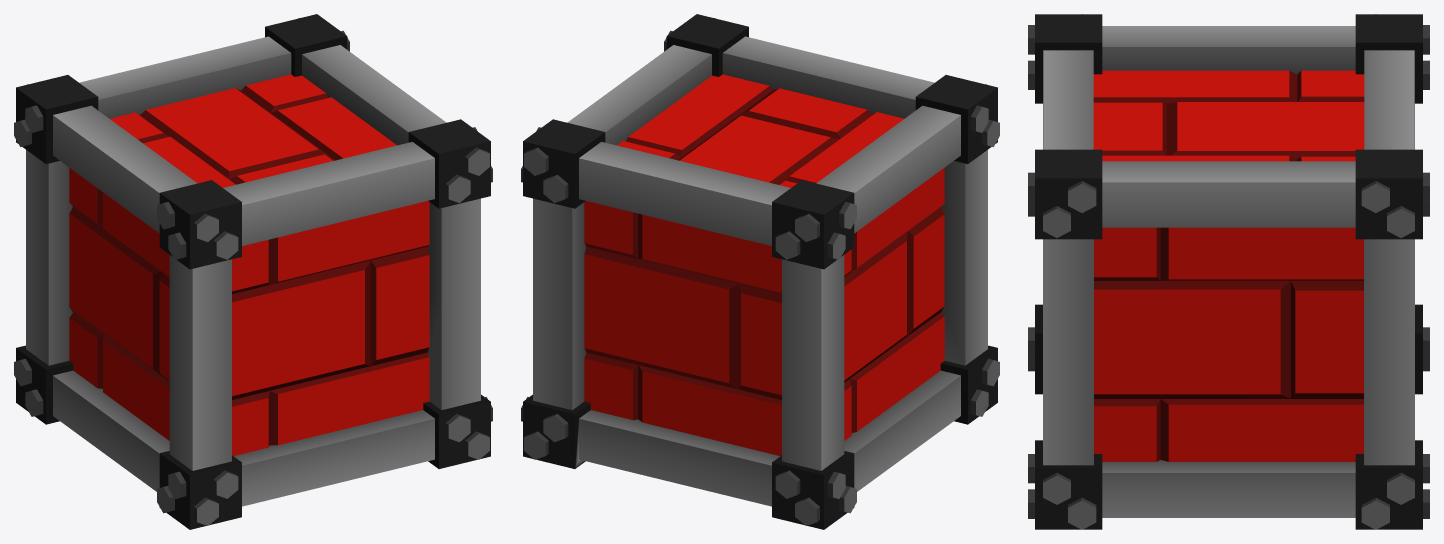
Rendered from SteelBrickBlock.fbx.
The picture shows the model from 3 angles, left to right: view 1: azimuth 30°, elevation 25°; view 2: azimuth 150°, elevation 25°; view 3: azimuth 270°, elevation 25°; orthographic projection. The views are drawn at different scales.
Visible parts, largest first — view 1: SteelBrickBlock, SteelBrickBlockInside; view 2: SteelBrickBlock, SteelBrickBlockInside; view 3: SteelBrickBlock, SteelBrickBlockInside.
Boxes of the visible parts, x1,y1,x2,y2 form: SteelBrickBlock: [14, 14, 492, 529]; SteelBrickBlockInside: [69, 74, 429, 455]; SteelBrickBlock: [521, 14, 999, 529]; SteelBrickBlockInside: [584, 74, 944, 455]; SteelBrickBlock: [1028, 14, 1429, 529]; SteelBrickBlockInside: [1093, 70, 1364, 461].
Bounding box in the file's own units: 1.12 × 1.08 × 1.12.
